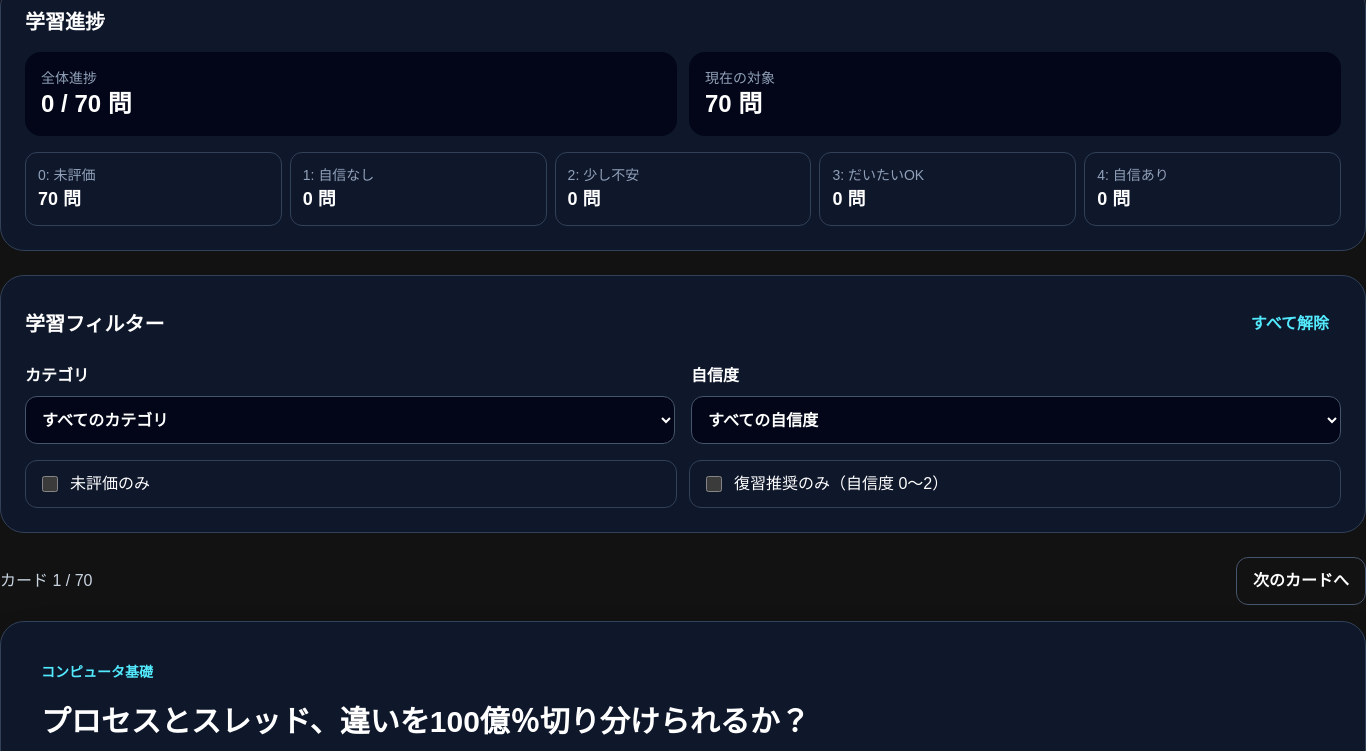
it: FlashCardStudy › removes a card from the current queue immediately after confidence changes
Click the checkbox labelled "未評価のみ": (50, 484) [42,476,58,492]
(page scrolled)
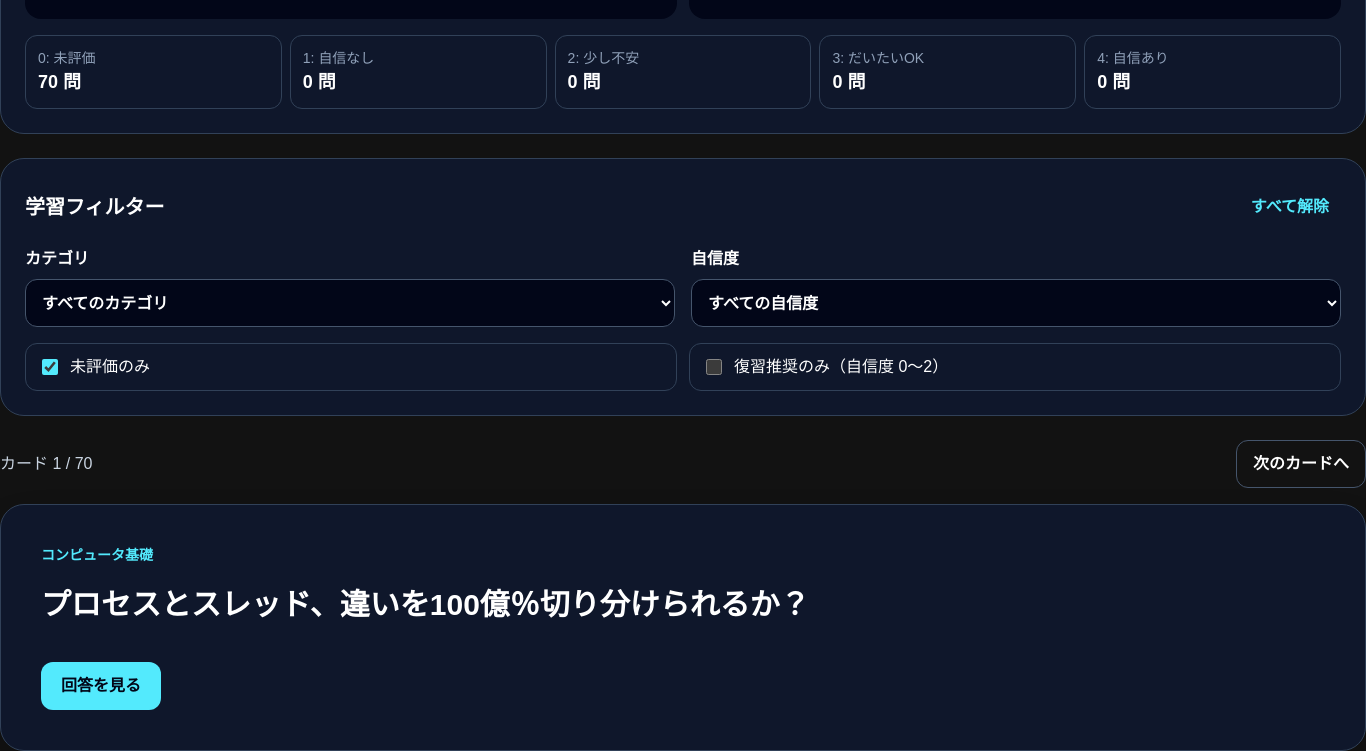
Click the button "回答を見る": (101, 686) [41,662,161,710]
(page scrolled)
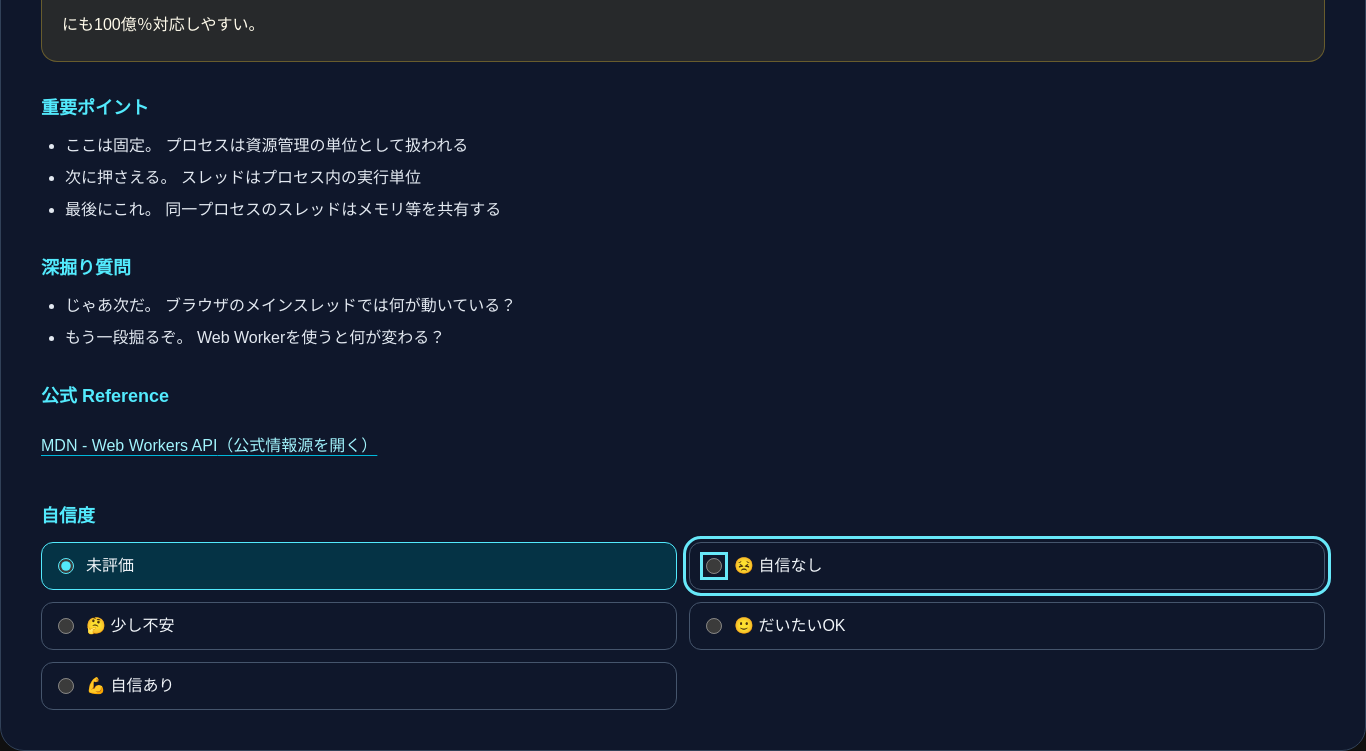
Click the radio button labelled "😣 自信なし": (714, 566) [706,558,722,574]
(page scrolled)
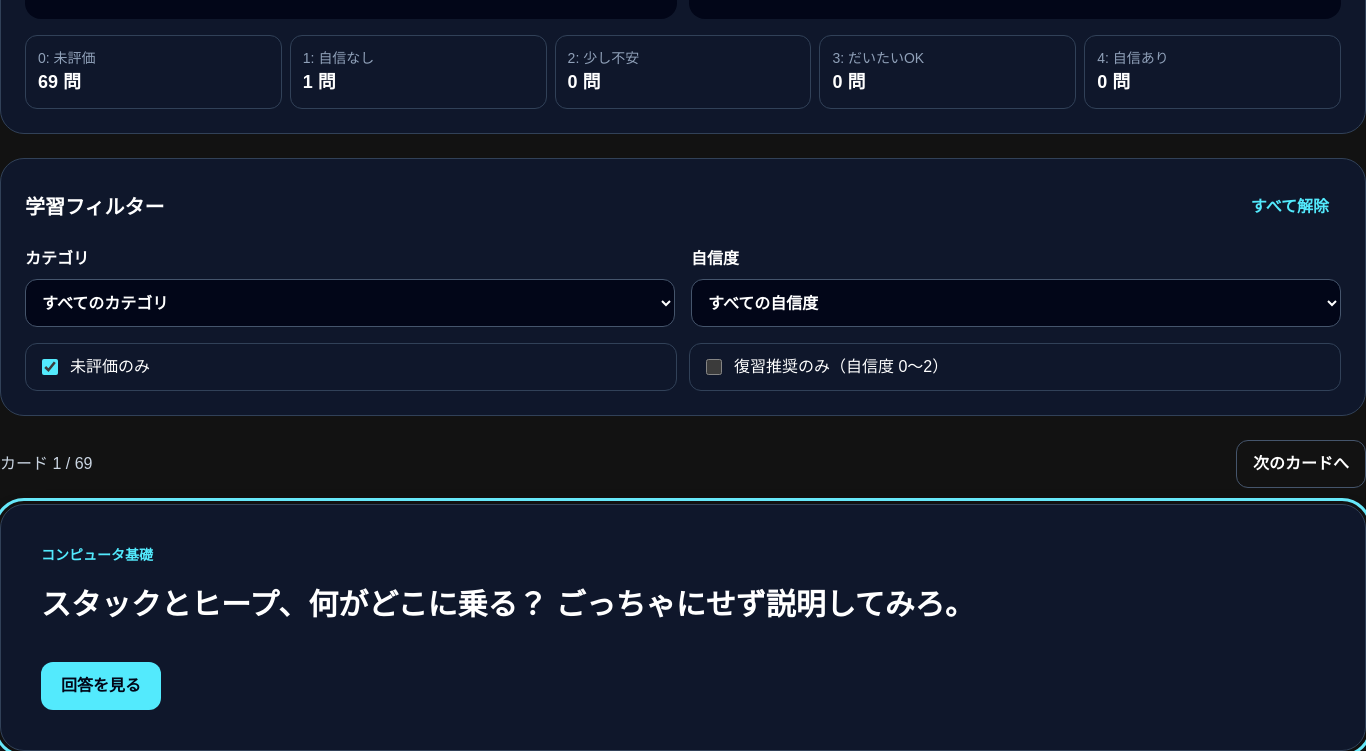
Expected: the text "カード 1 / 69" is shown, [0,452,92,476]
